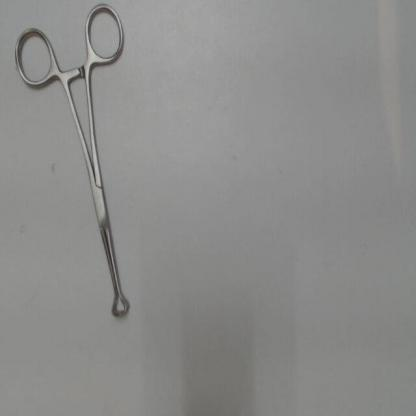Babcock Tissue Forceps: (10, 3, 134, 320)
